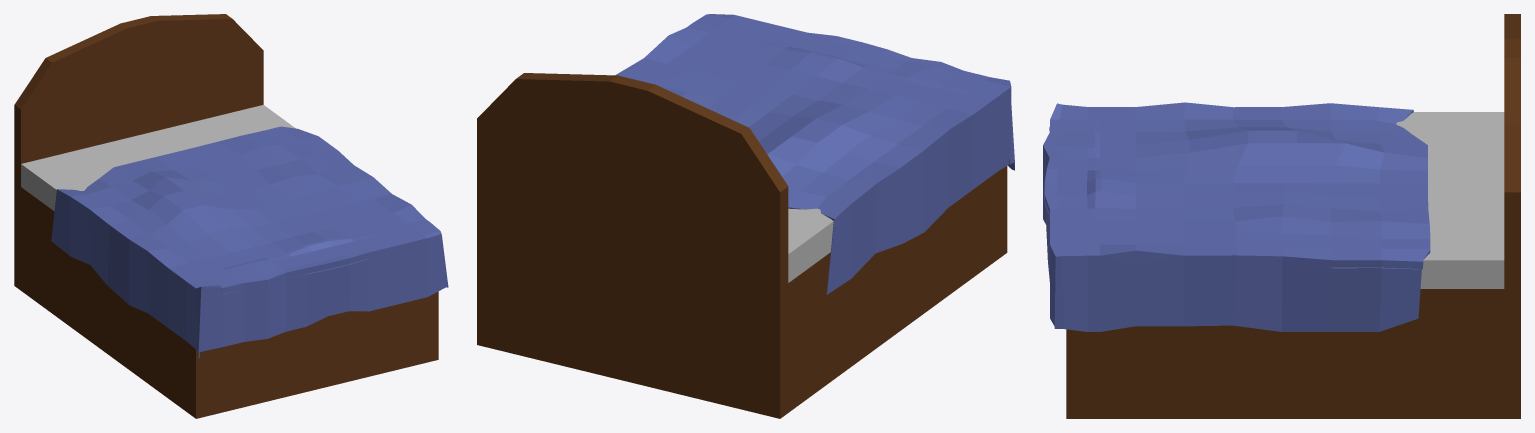
The model's file is bed.glb.
The picture shows the model from 3 angles, left to right: view 1: azimuth 30°, elevation 25°; view 2: azimuth 150°, elevation 25°; view 3: azimuth 270°, elevation 25°; orthographic projection. The views are drawn at different scales.
Visible parts, largest first — view 1: Cube, Plane; view 2: Cube, Plane; view 3: Plane, Cube.
Boxes of the visible parts, x1,y1,x2,y2 form: Cube: [14, 14, 438, 418]; Plane: [51, 126, 448, 358]; Cube: [477, 73, 1007, 418]; Plane: [615, 14, 1014, 294]; Plane: [1043, 102, 1430, 331]; Cube: [1066, 14, 1520, 418].
Bounding box in the file's own units: 2.07 × 1.87 × 2.73.
